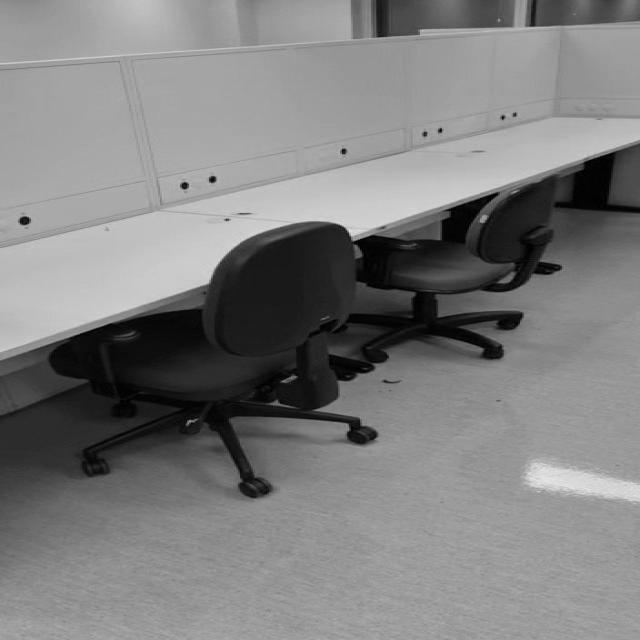cadeira-azul: (46, 220, 379, 500)
